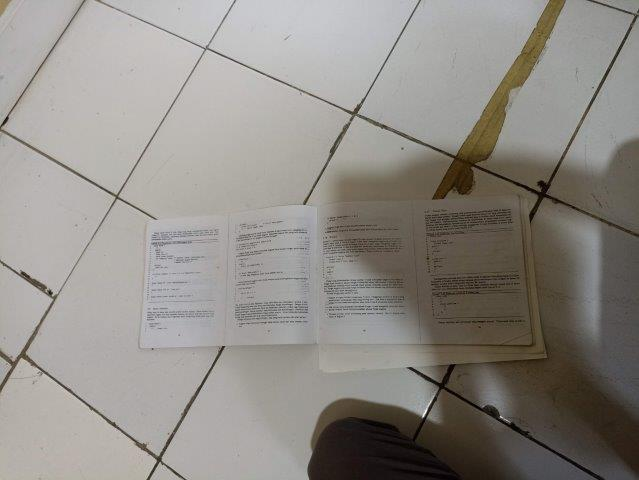kertas: (139, 196, 547, 371)
